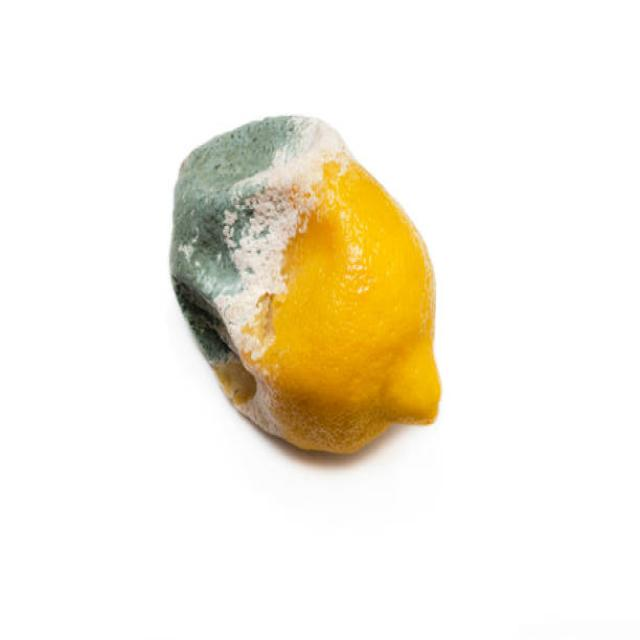Rotten: (168, 113, 442, 453)
